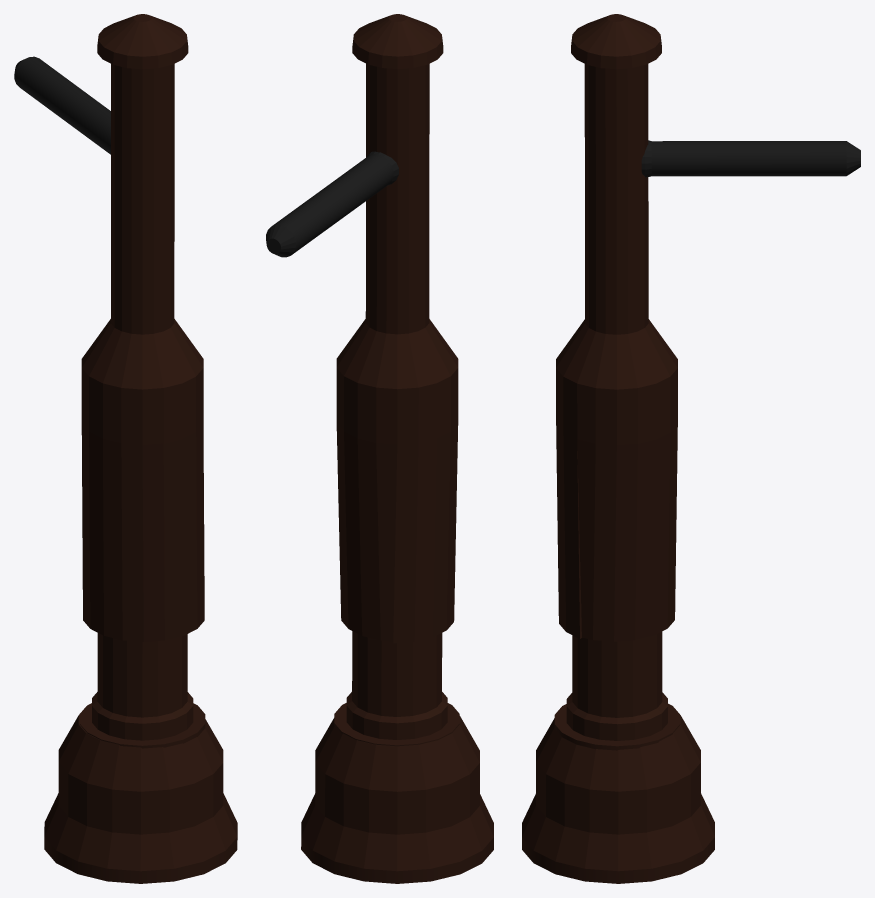
File: fundament.DAE
The picture shows the model from 3 angles, left to right: view 1: azimuth 30°, elevation 25°; view 2: azimuth 150°, elevation 25°; view 3: azimuth 270°, elevation 25°; orthographic projection.
Parts seen in each view (by area): view 1: Fundament; view 2: Fundament; view 3: Fundament.
Boxes of the visible parts, x1,y1,x2,y2 form: Fundament: (14,14,237,883); Fundament: (266,14,493,883); Fundament: (522,14,860,883).
Bounding box in the file's own units: 111 × 192 × 517.
